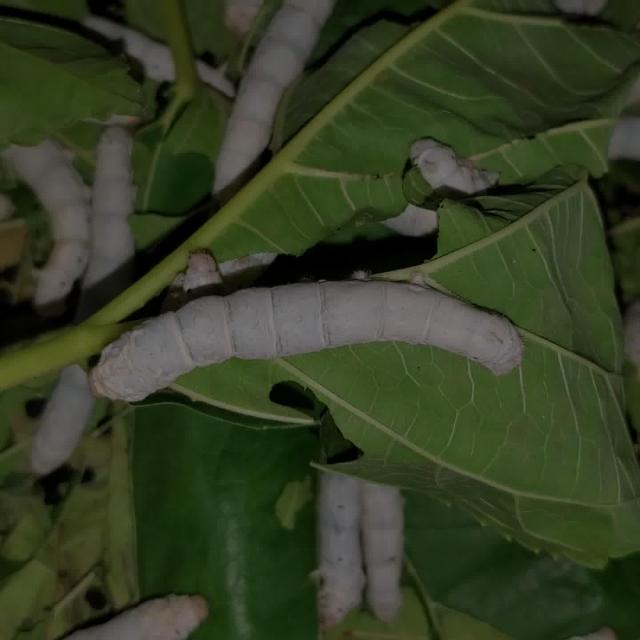Healthy: (90, 264, 530, 426)
